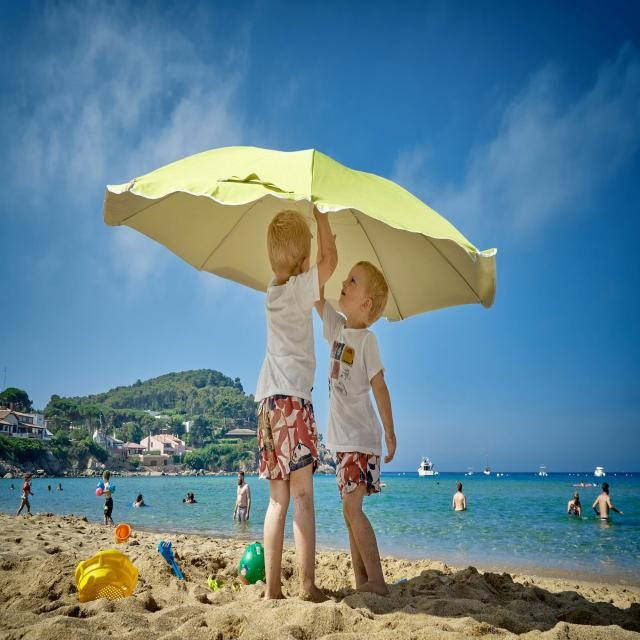adult: (592, 482, 624, 522), (233, 470, 250, 520), (16, 471, 34, 517), (100, 468, 114, 523), (452, 481, 467, 512)
child: (256, 206, 338, 598), (314, 262, 396, 588)
